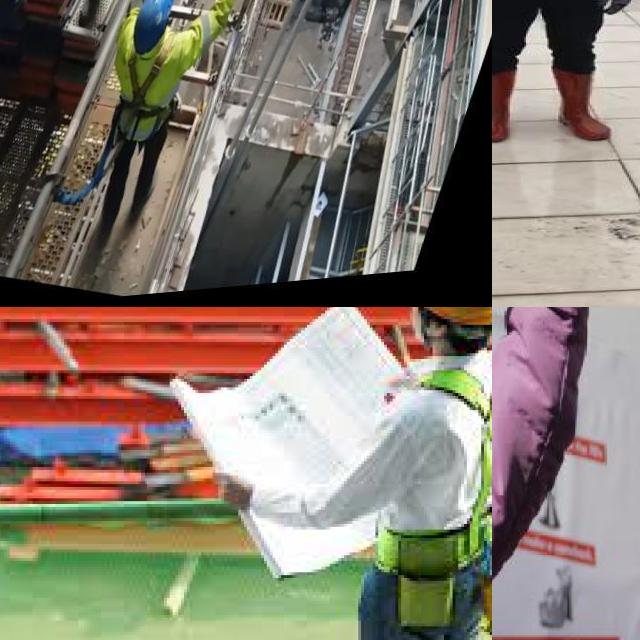Harness: (369, 357, 492, 638), (120, 50, 172, 142)
boots: (551, 70, 615, 140), (492, 66, 515, 143)
hand_glove: (603, 0, 629, 13)
person: (492, 0, 640, 143)
